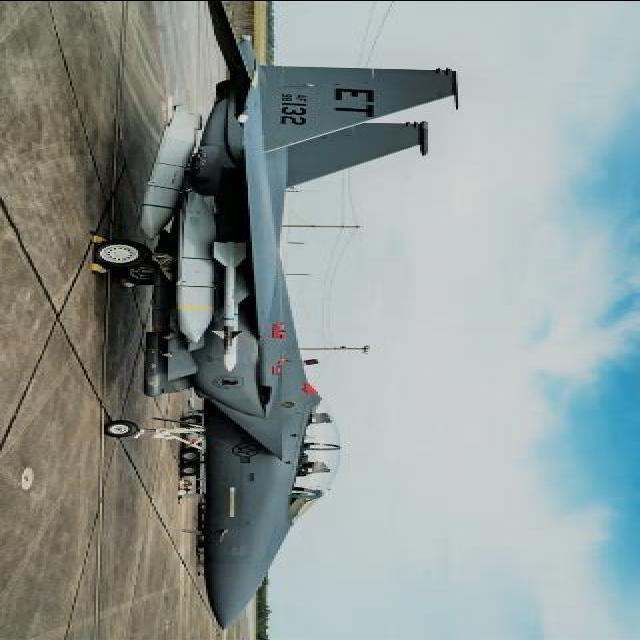missile: (175, 188, 219, 347), (209, 237, 249, 370)
